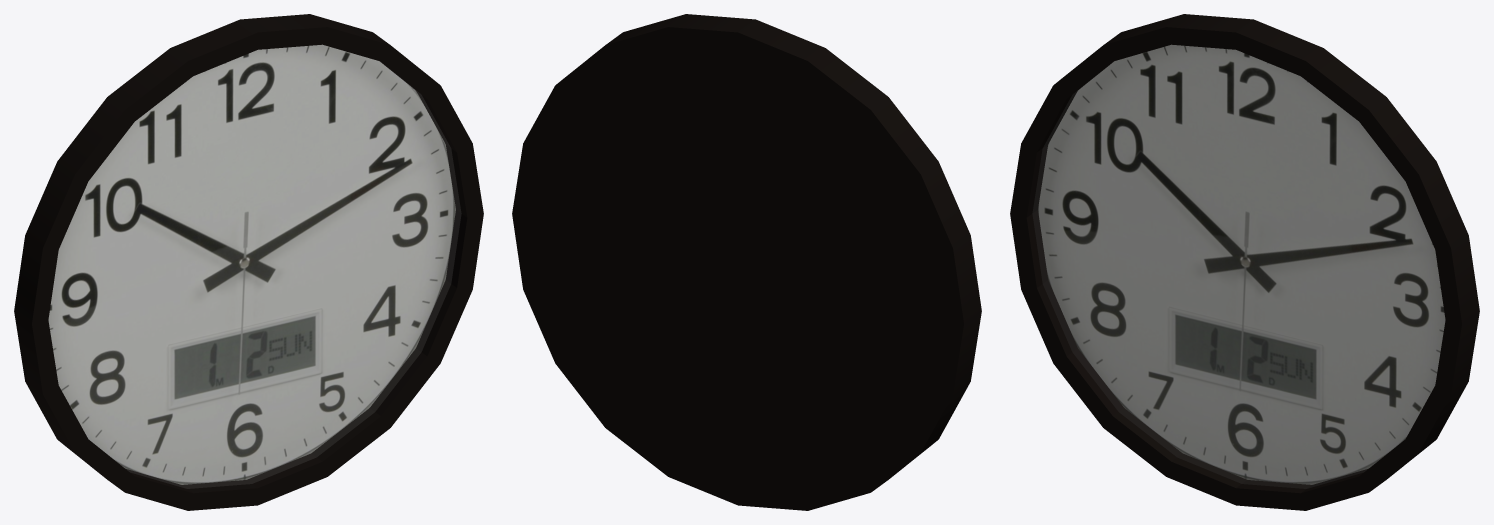
The model's file is Clock.FBX.
3 views of the same model, side by side, from view 1: azimuth 30°, elevation 25°; view 2: azimuth 150°, elevation 25°; view 3: azimuth 330°, elevation 25° (orthographic).
Visible parts, largest first — view 1: Clock; view 2: Clock; view 3: Clock.
Part boxes in pixels (<box>): Clock: <box>14,14,483,510</box>; Clock: <box>512,14,981,510</box>; Clock: <box>1010,14,1479,510</box>.
Size of the model in its own units: 36.23 by 36.23 by 2.47.
2 materials, 1 textured.
